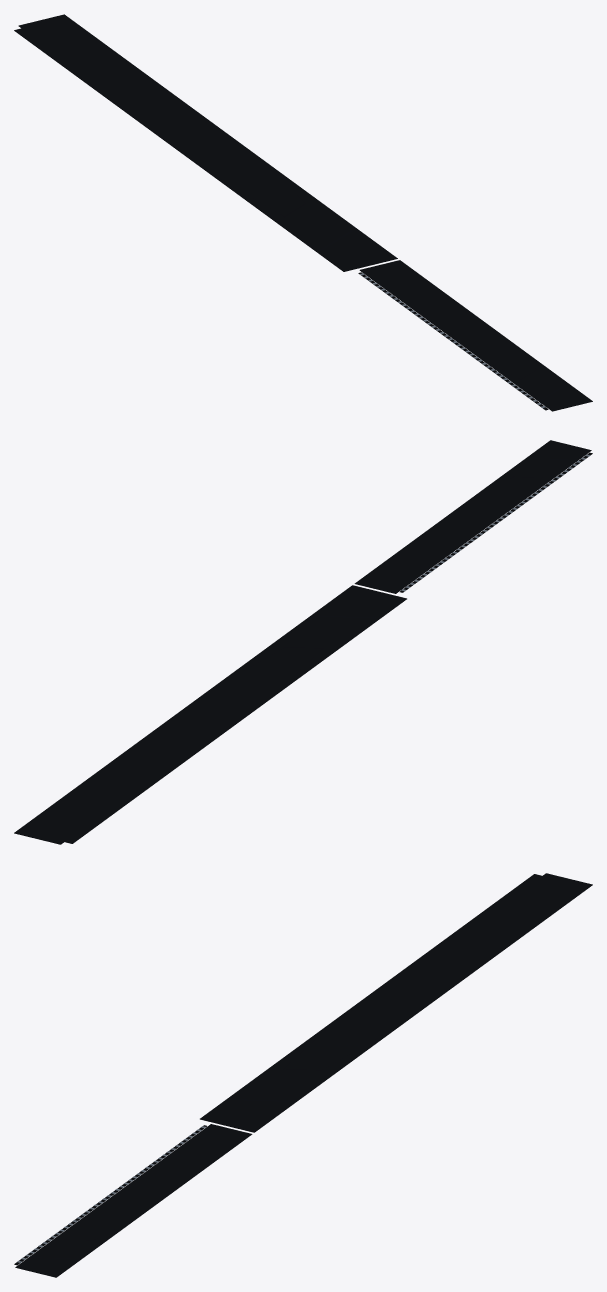
The model's file is tt_pool_deck_finish_d.glb.
3 views of the same model, one above another, from view 1: azimuth 30°, elevation 25°; view 2: azimuth 150°, elevation 25°; view 3: azimuth 330°, elevation 25° (orthographic).
Parts seen in each view (by area): view 1: Deck_Terrazzo, Gutter_DarkSlot; view 2: Deck_Terrazzo, Gutter_DarkSlot; view 3: Deck_Terrazzo, Gutter_DarkSlot.
Boxes of the visible parts, box(x1,y1,x2,y2) form: Deck_Terrazzo: box(14, 14, 592, 411); Gutter_DarkSlot: box(358, 272, 548, 410); Deck_Terrazzo: box(14, 440, 591, 844); Gutter_DarkSlot: box(400, 452, 592, 592); Deck_Terrazzo: box(15, 873, 592, 1277); Gutter_DarkSlot: box(14, 1125, 206, 1265).
Size of what is drawn, in the model's own units: 2 by 0.02 by 33.86.
Materials: 3 (3 with a texture image).
